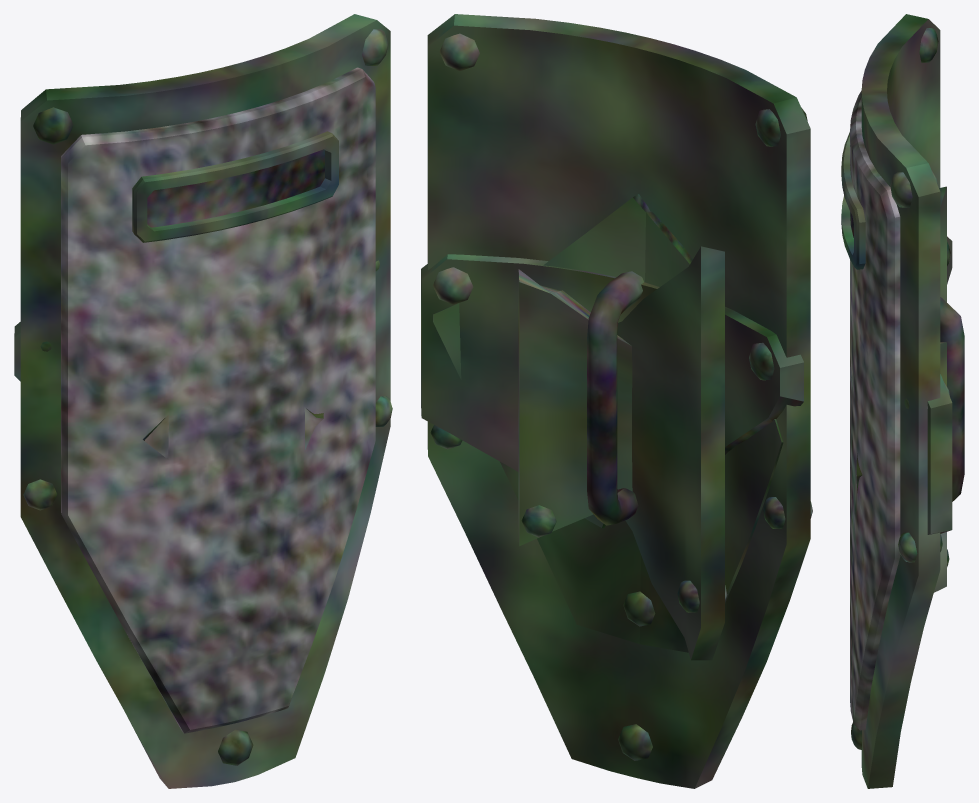
Rendered from em005_break_00_md.obj.
The picture shows the model from 3 angles, left to right: view 1: azimuth 30°, elevation 25°; view 2: azimuth 150°, elevation 25°; view 3: azimuth 270°, elevation 25°; orthographic projection. The views are drawn at different scales.
Visible parts, largest first — view 1: Group[4]; view 2: Group[4], Group[1], Group[0], Group[3], Group[2]; view 3: Group[4], Group[0], Group[1], Group[2].
Part boxes in pixels (bbox=[...]): Group[4]: bbox=[20, 14, 392, 788]; Group[4]: bbox=[427, 14, 812, 788]; Group[1]: bbox=[617, 246, 727, 660]; Group[0]: bbox=[421, 254, 803, 528]; Group[3]: bbox=[433, 194, 783, 652]; Group[2]: bbox=[518, 269, 632, 546]; Group[4]: bbox=[841, 14, 964, 788]; Group[0]: bbox=[904, 236, 952, 534]; Group[1]: bbox=[856, 186, 946, 492]; Group[2]: bbox=[934, 342, 949, 592].
Bounding box in the file's own units: 0.7836 × 1.43 × 0.2362.
1 material, 1 textured.
